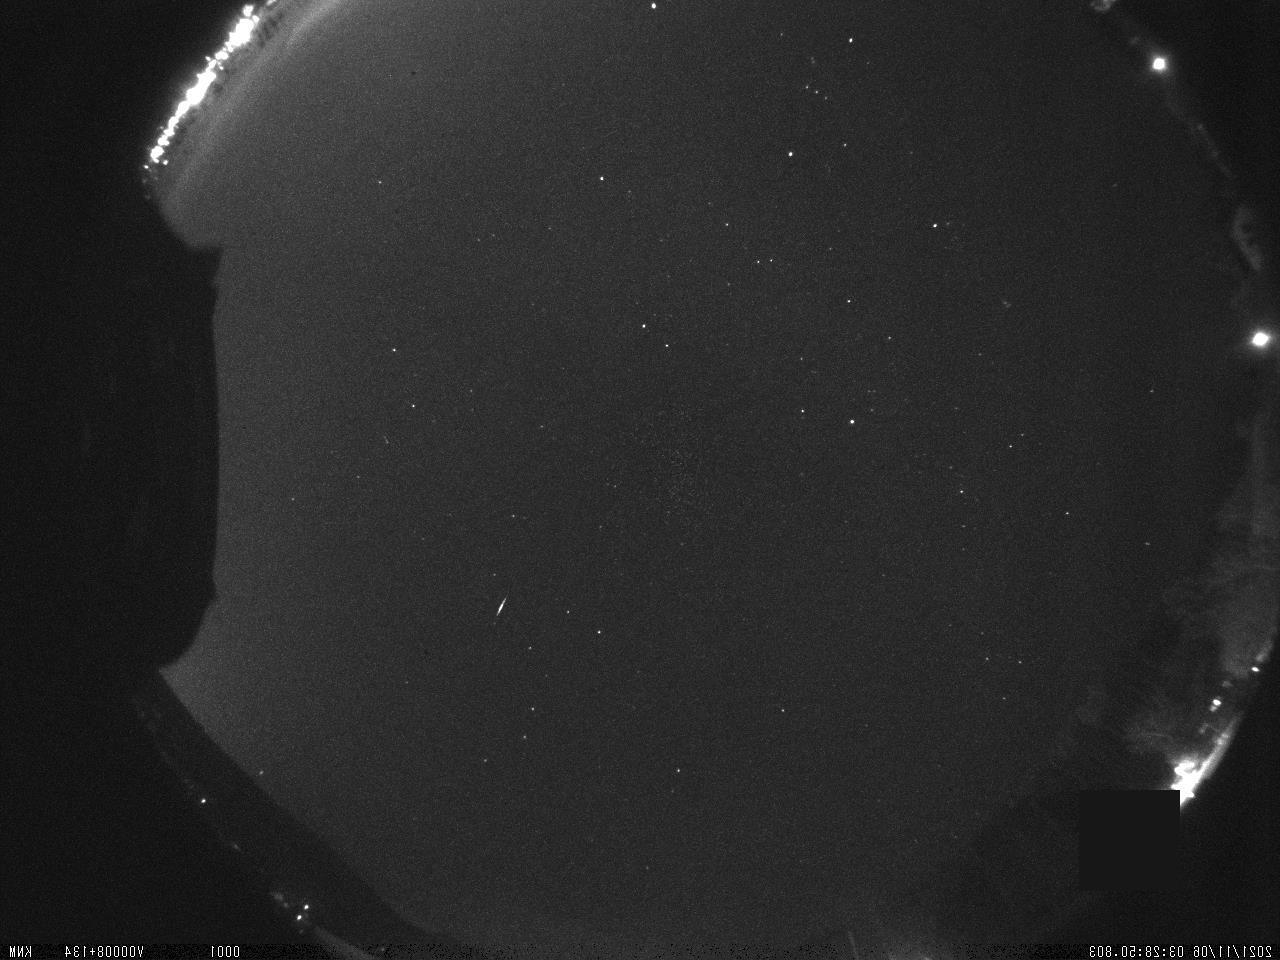meteor: (481, 577, 525, 641)
